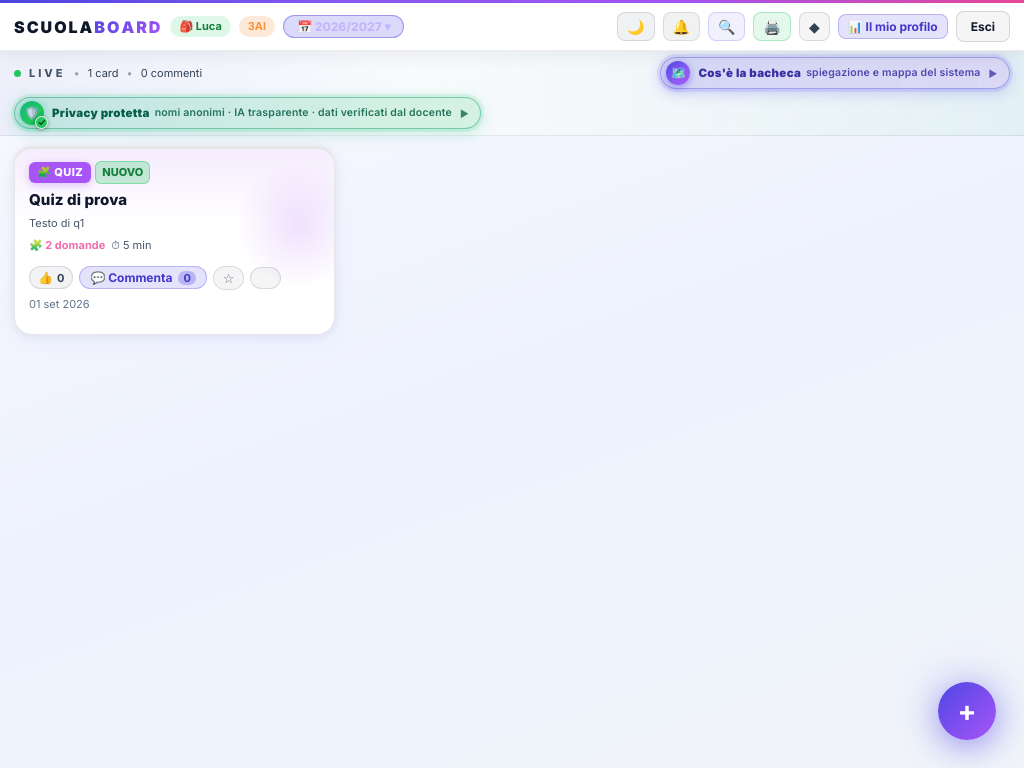
Test: Quiz interattivo (studente) › mostra il quiz a tempo con il timer
Click the text "Quiz di prova": (78, 199) [29,190,127,208]
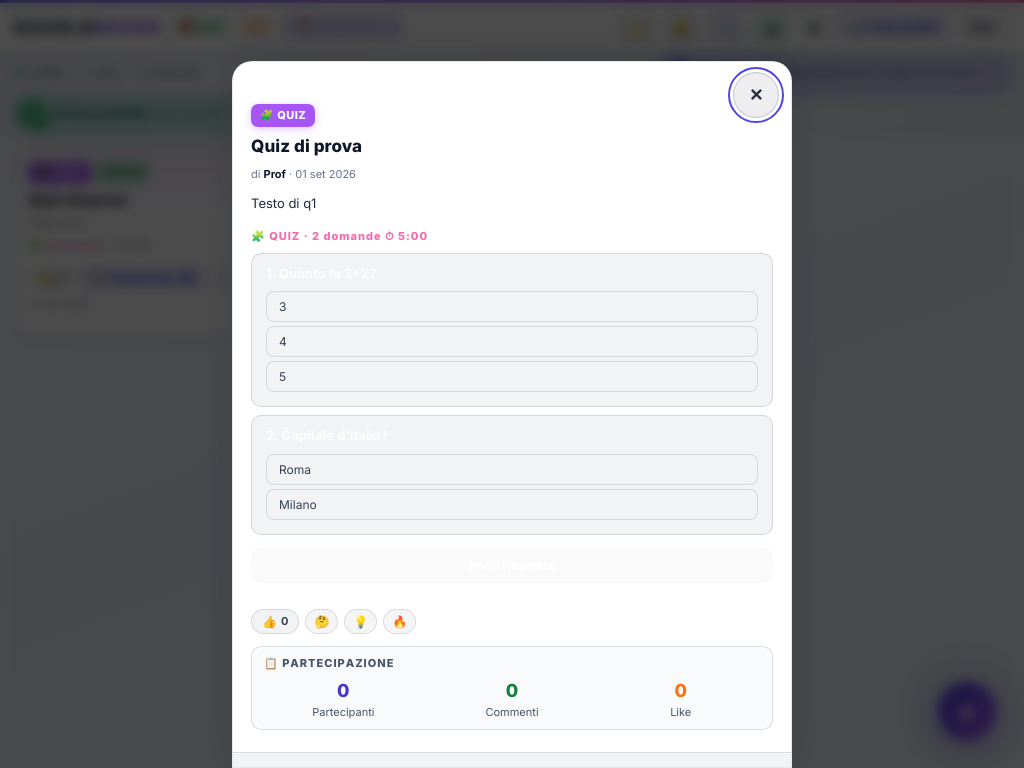
Expected: the text "🧩 QUIZ · 2 domande ⏱ 5:00" is shown, [251,230,428,244]
